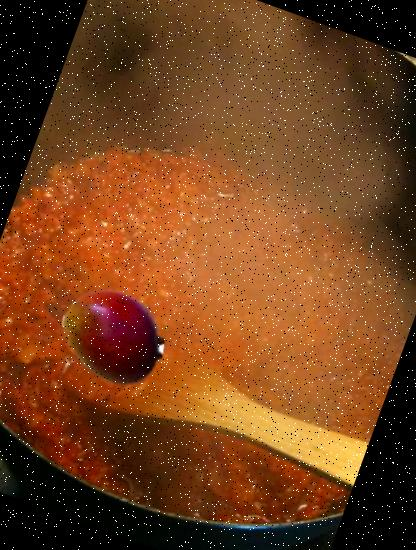Mango: (46, 270, 178, 404)
